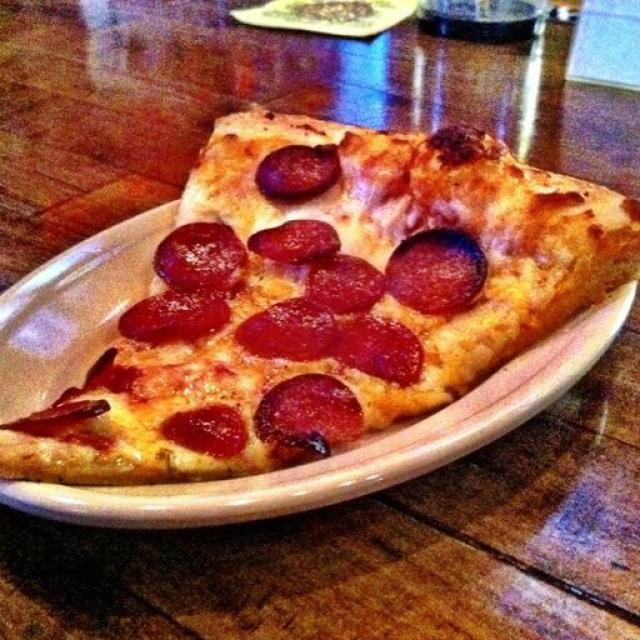Pepperoni: (392, 226, 492, 312), (257, 373, 364, 450), (335, 313, 424, 387), (240, 298, 341, 359), (166, 221, 246, 287), (121, 292, 231, 340), (256, 142, 342, 202), (161, 400, 251, 457), (307, 256, 385, 313), (247, 218, 341, 260), (22, 400, 109, 420)
Pizza: (0, 110, 640, 481)
